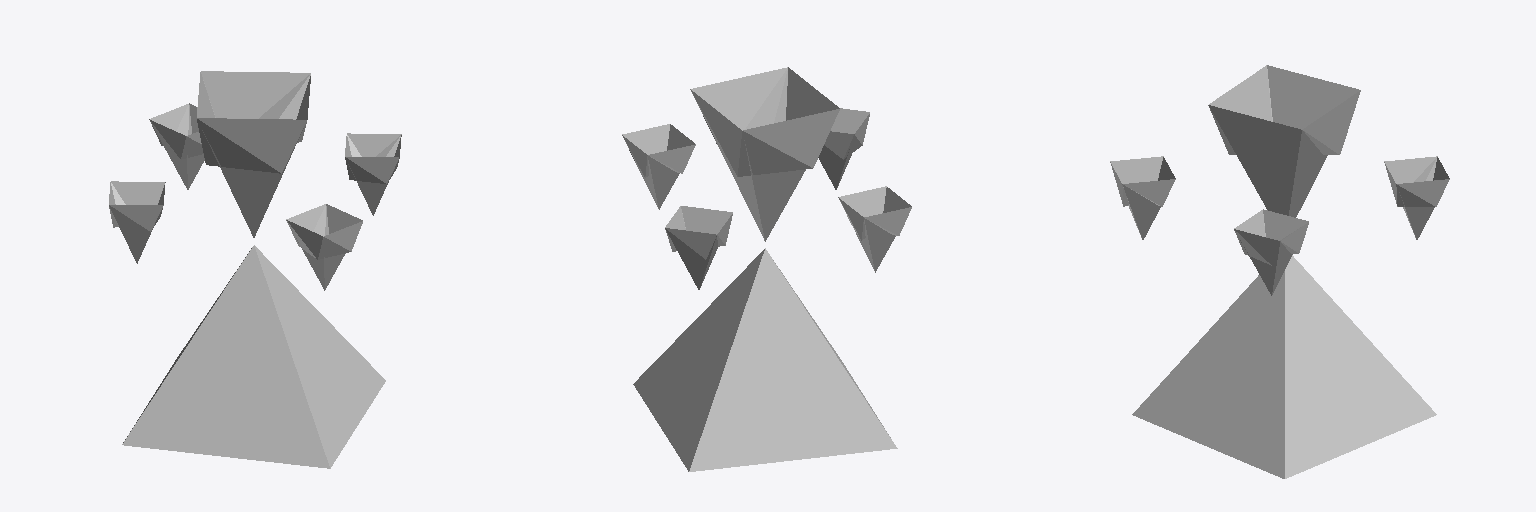
Rendered from building300.obj.
The picture shows the model from 3 angles: view 1: azimuth 30°, elevation 25°; view 2: azimuth 150°, elevation 25°; view 3: azimuth 270°, elevation 25°; orthographic projection.
Parts seen in each view (by area): view 1: pCone1, pCone2, pCone3, pCone4, pCone6, pCone5; view 2: pCone1, pCone2, pCone6, pCone4, pCone5, pCone3; view 3: pCone1, pCone2, pCone4, pCone5, pCone3.
Part boxes in pixels (x1,y1,x2,y2): pCone1: (122,245,385,468); pCone2: (197,71,310,237); pCone3: (286,204,362,290); pCone4: (345,133,401,215); pCone6: (109,181,165,263); pCone5: (149,103,204,189); pCone1: (633,248,897,471); pCone2: (690,67,839,241); pCone6: (838,186,911,272); pCone4: (622,124,695,209); pCone5: (665,206,732,289); pCone3: (818,108,869,189); pCone1: (1132,255,1436,478); pCone2: (1208,65,1360,217); pCone4: (1234,209,1308,295); pCone5: (1384,156,1449,239); pCone3: (1110,156,1175,239).
Bounding box in the file's own units: 6.27 × 6.52 × 6.33.